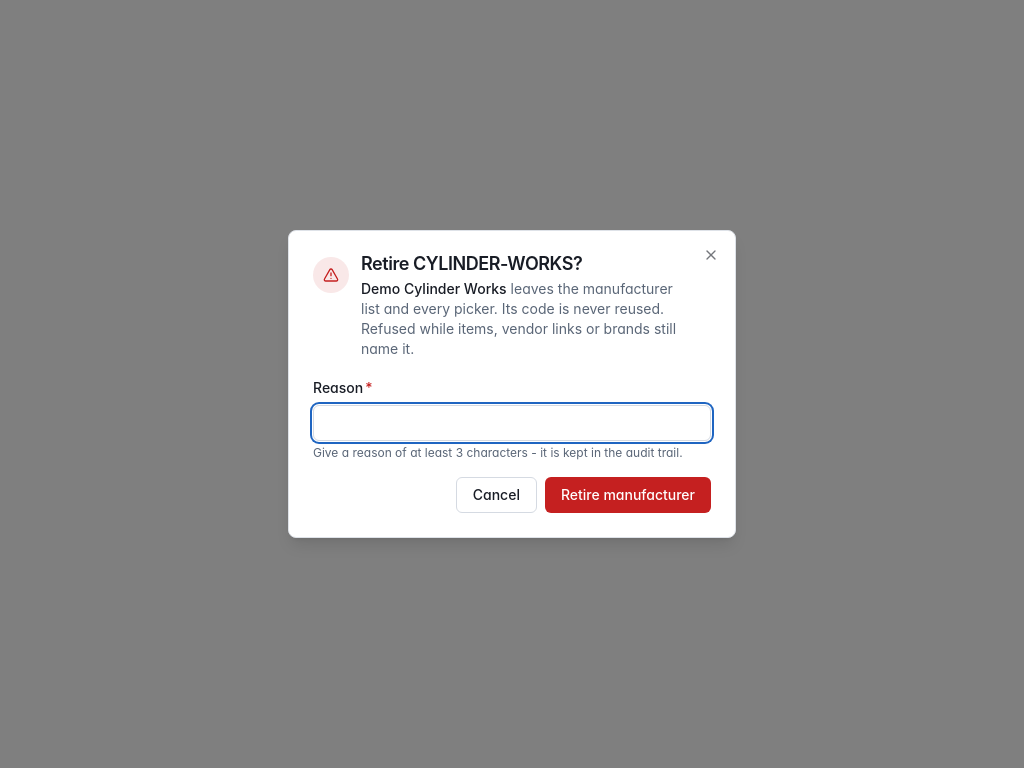
Test: retiring a manufacturer › shows which holders are in the way, in the server words
Type "Closed down" into the field labelled "Reason*". click: (512, 423)
box: [313,405,711,441]
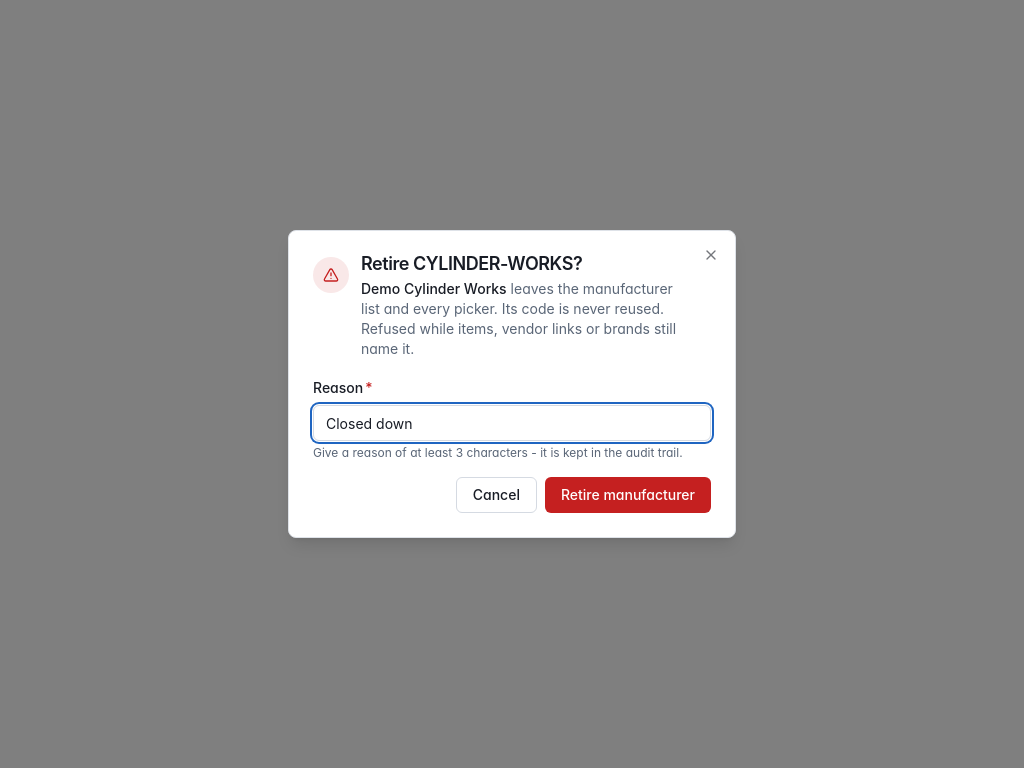
Click the button "Retire manufacturer". click: (628, 495)
box: [545,477,711,513]
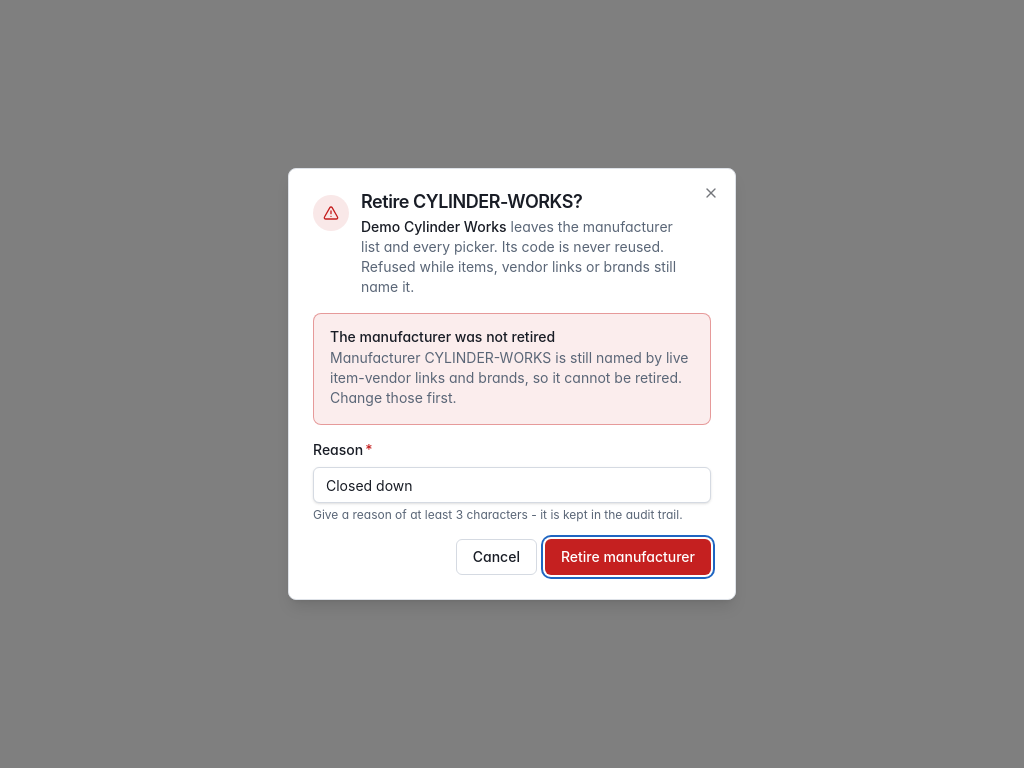
Result: the text "Manufacturer CYLINDER-WORKS is still named by live item-vendor links and brands, so it cannot be retired. Change those f" is shown at [330,349,688,406]
